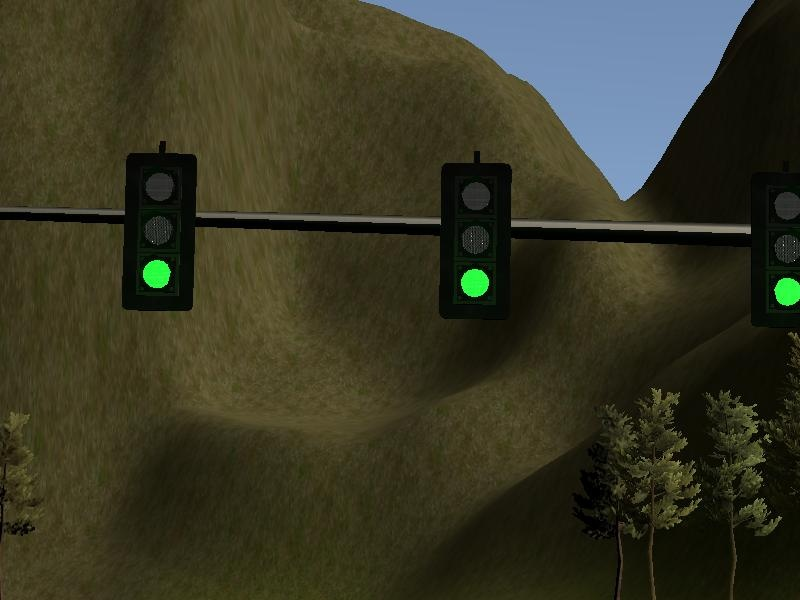GREEN: (123, 150, 200, 313), (439, 161, 514, 319), (750, 167, 800, 322)
